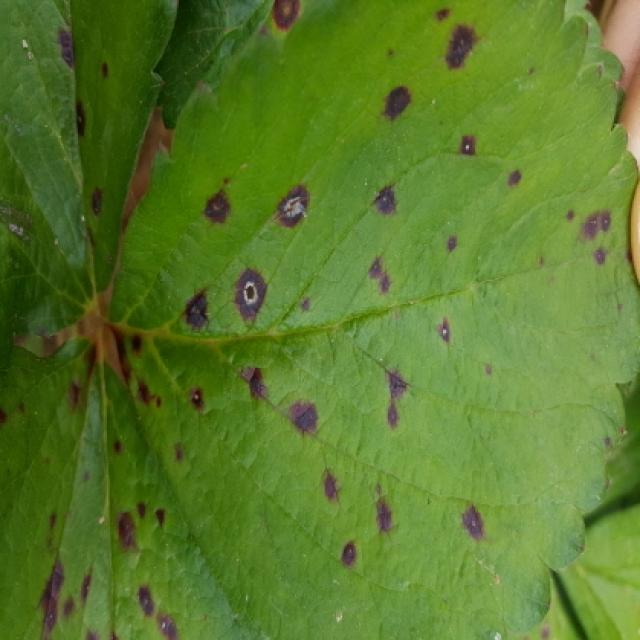Leaf Spot: (107, 0, 640, 638), (2, 337, 246, 638), (2, 0, 179, 357)
